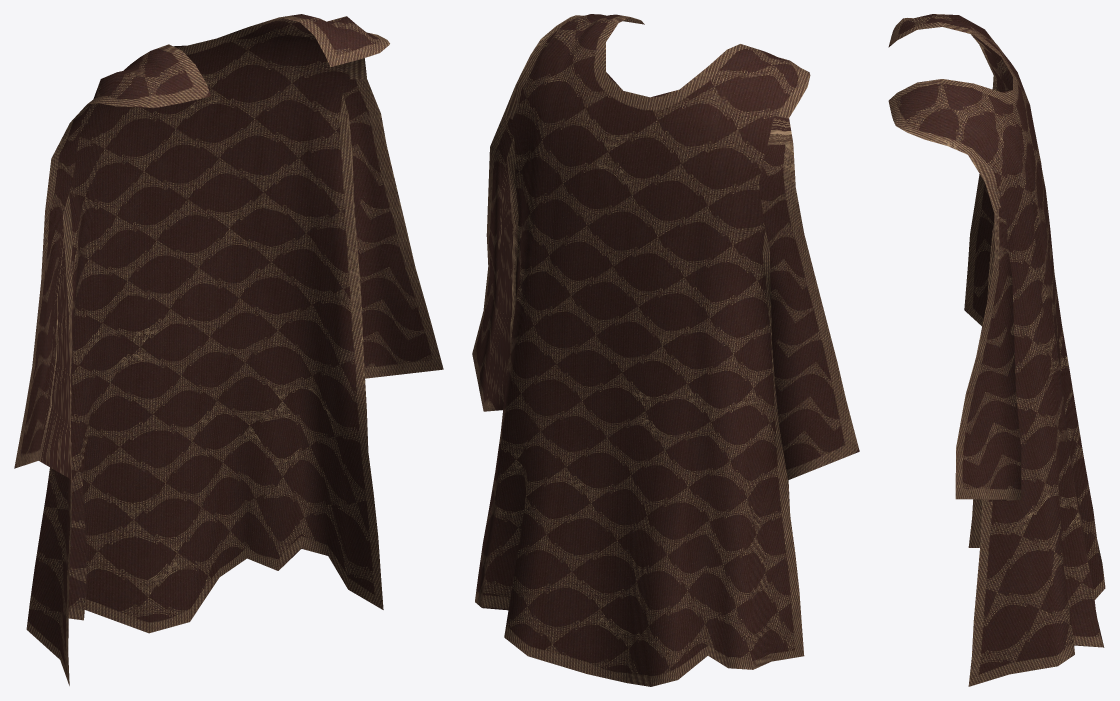
Rendered from clo_sk_dwarf_dain_pauldron_heavy_e.fbx.
3 views of the same model, side by side, from view 1: azimuth 30°, elevation 25°; view 2: azimuth 150°, elevation 25°; view 3: azimuth 270°, elevation 25° (orthographic). The views are drawn at different scales.
Parts seen in each view (by area): view 1: clo_sk_dwarf_dain_pauldron_heavy_e; view 2: clo_sk_dwarf_dain_pauldron_heavy_e; view 3: clo_sk_dwarf_dain_pauldron_heavy_e.
Part boxes in pixels (x1,y1,x2,y2): clo_sk_dwarf_dain_pauldron_heavy_e: (14,14,443,685); clo_sk_dwarf_dain_pauldron_heavy_e: (472,14,859,686); clo_sk_dwarf_dain_pauldron_heavy_e: (888,14,1105,686).
Bounding box in the file's own units: 0.8335 × 0.4068 × 1.21.
Materials: 1 (1 with a texture image).
